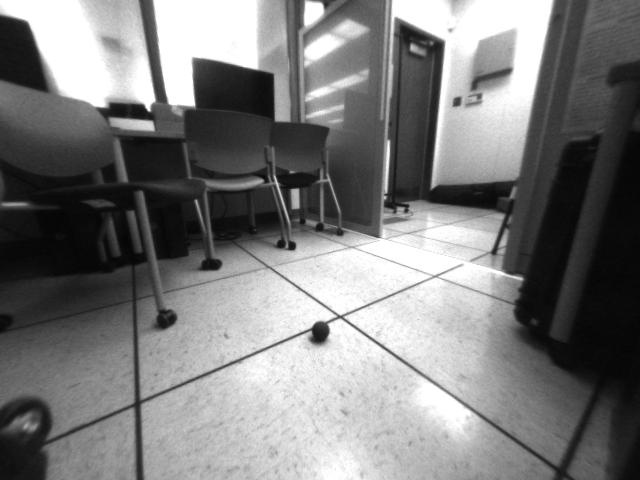dogtoy: (305, 313, 342, 350)
